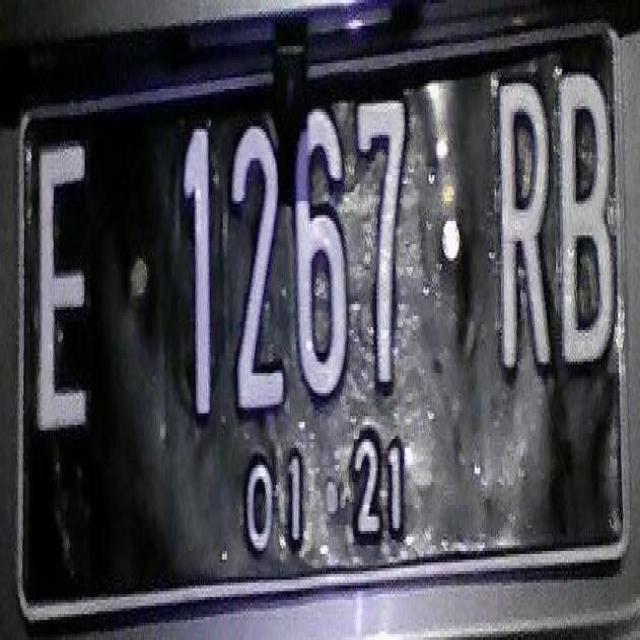1: (177, 116, 220, 432)
2: (220, 110, 288, 420)
6: (290, 102, 352, 412)
7: (352, 89, 412, 405)
B: (556, 60, 618, 376)
E: (36, 139, 91, 435)
R: (494, 68, 554, 384)
